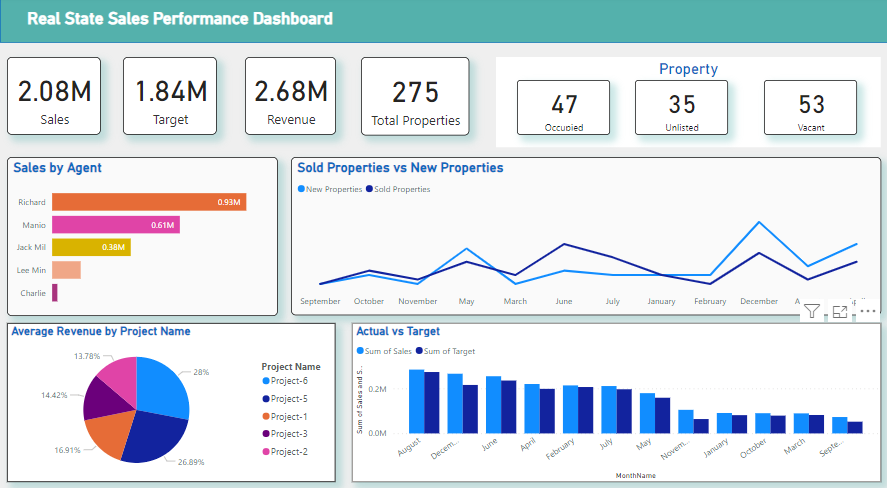

What the dashboard file says about the page in this screenshot:
{"tool":"powerbi","page":{"name":"Home","canvas":[1280,720],"ordinal":0},"visuals":[{"type":"shape","box":[0,0,1280.2,66.2],"z":0},{"type":"textbox","box":[0,11.5,518.4,43.2],"z":1},{"type":"card","fields":{"Values":["Power BI Data Set Demo xlsx - Real Estate Data.Sales"]},"box":[10.1,86.4,135.4,112.3],"z":2},{"type":"card","fields":{"Values":["Power BI Data Set Demo xlsx - Real Estate Data.Target"]},"box":[177.1,86.4,135.4,112.3],"z":3},{"type":"card","fields":{"Values":["Power BI Data Set Demo xlsx - Real Estate Data.Revenue"]},"box":[352.8,86.4,131,112.3],"z":4},{"type":"card","fields":{"Values":["Power BI Data Set Demo xlsx - Real Estate Data.Total Property"]},"box":[519.2,85.9,155.7,112.8],"z":5},{"type":"textbox","box":[714.2,86.4,554.4,129.6],"z":6},{"type":"card","fields":{"Values":["Power BI Data Set Demo xlsx - Real Estate Data.Property Status"]},"box":[744.5,119.5,133.9,79.2],"z":7},{"type":"card","fields":{"Values":["Power BI Data Set Demo xlsx - Real Estate Data.Property Status"]},"box":[914.4,119.5,133.9,79.2],"z":8},{"type":"card","fields":{"Values":["Power BI Data Set Demo xlsx - Real Estate Data.Property Status"]},"box":[1100.2,119.5,133.9,79.2],"z":9},{"type":"clusteredBarChart","title":"Sales by Agent","fields":{"Category":["Power BI Data Set Demo xlsx - Real Estate Data.Agent"],"Y":["Power BI Data Set Demo xlsx - Real Estate Data.Sales"]},"box":[10.1,230.4,390.2,229],"z":10},{"type":"lineChart","title":"Sold Properties vs New Properties","fields":{"Category":["DimDate.MonthName"],"Y":["Power BI Data Set Demo xlsx - Real Estate Data.New Properties","Power BI Data Set Demo xlsx - Real Estate Data.Sold Properties"]},"box":[419,230.4,849.6,227.5],"z":11},{"type":"pieChart","title":"Average Revenue by Project Name","fields":{"Y":["Power BI Data Set Demo xlsx - Real Estate Data.Revenue"],"Category":["Power BI Data Set Demo xlsx - Real Estate Data.Project Name"]},"box":[10.7,469,472.6,229.1],"z":12},{"type":"clusteredColumnChart","title":"Actual vs Target","fields":{"Category":["DimDate.MonthName"],"Y":["Power BI Data Set Demo xlsx - Real Estate Data.Sales","Power BI Data Set Demo xlsx - Real Estate Data.Target"]},"box":[507,469,762,229],"z":13}]}

Visuals, with their boxes in screenshot pixels (x1, y1, x2, y2), scaled from the page's 1280x720 canvas onto the 887x488 screenshot:
shape: [0,0,886,45]
textbox: [0,8,359,37]
card - Power BI Data Set Demo xlsx - Real Estate Data.Sales: [7,59,101,135]
card - Power BI Data Set Demo xlsx - Real Estate Data.Target: [123,59,217,135]
card - Power BI Data Set Demo xlsx - Real Estate Data.Revenue: [244,59,335,135]
card - Power BI Data Set Demo xlsx - Real Estate Data.Total Property: [360,58,468,135]
textbox: [495,59,879,146]
card - Power BI Data Set Demo xlsx - Real Estate Data.Property Status: [516,81,609,135]
card - Power BI Data Set Demo xlsx - Real Estate Data.Property Status: [634,81,726,135]
card - Power BI Data Set Demo xlsx - Real Estate Data.Property Status: [762,81,855,135]
"Sales by Agent" clusteredBarChart: [7,156,277,311]
"Sold Properties vs New Properties" lineChart: [290,156,879,310]
"Average Revenue by Project Name" pieChart: [7,318,335,473]
"Actual vs Target" clusteredColumnChart: [351,318,879,473]
